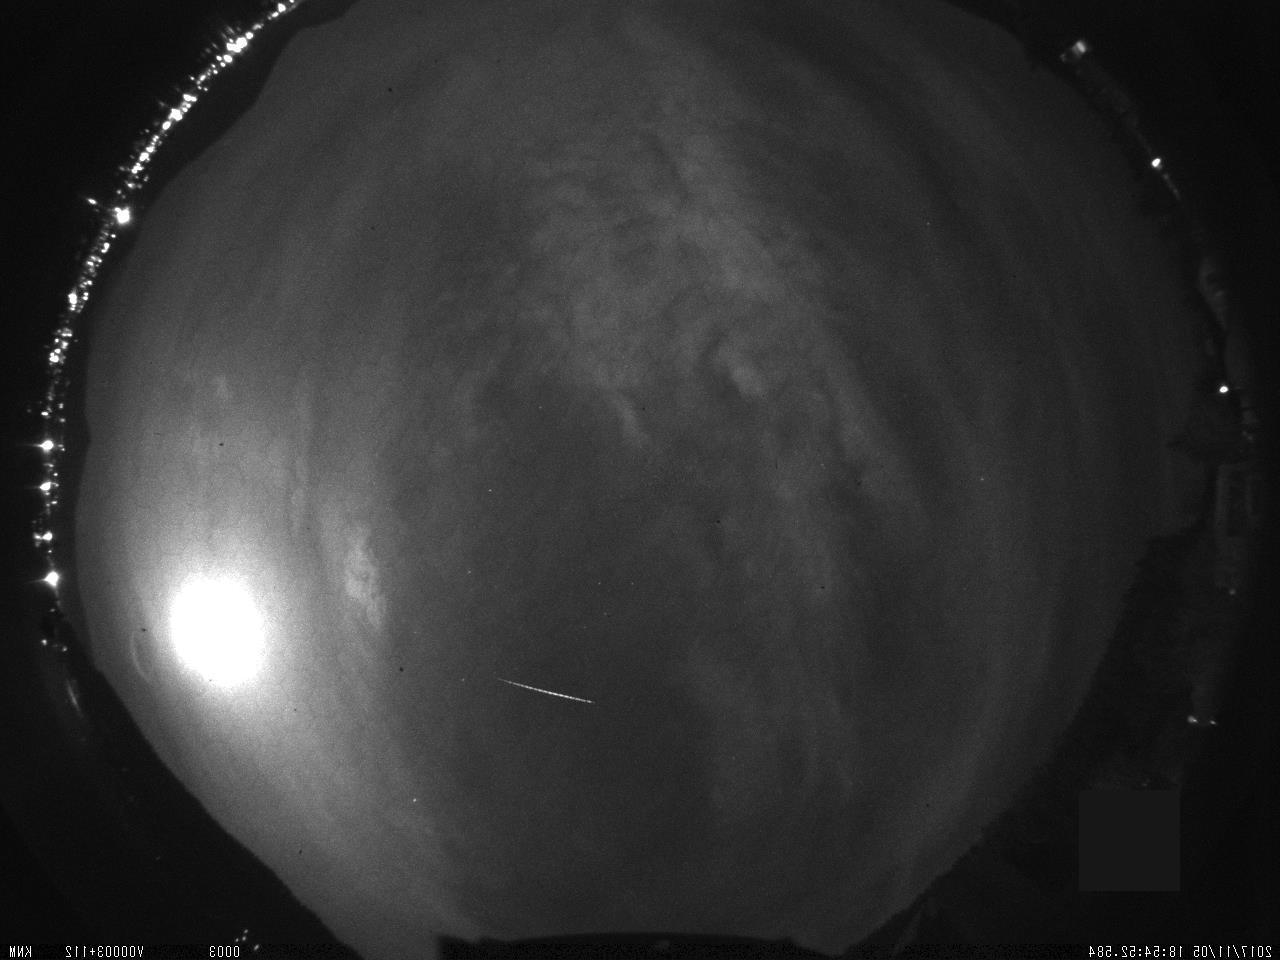meteor: (473, 658, 604, 709)
